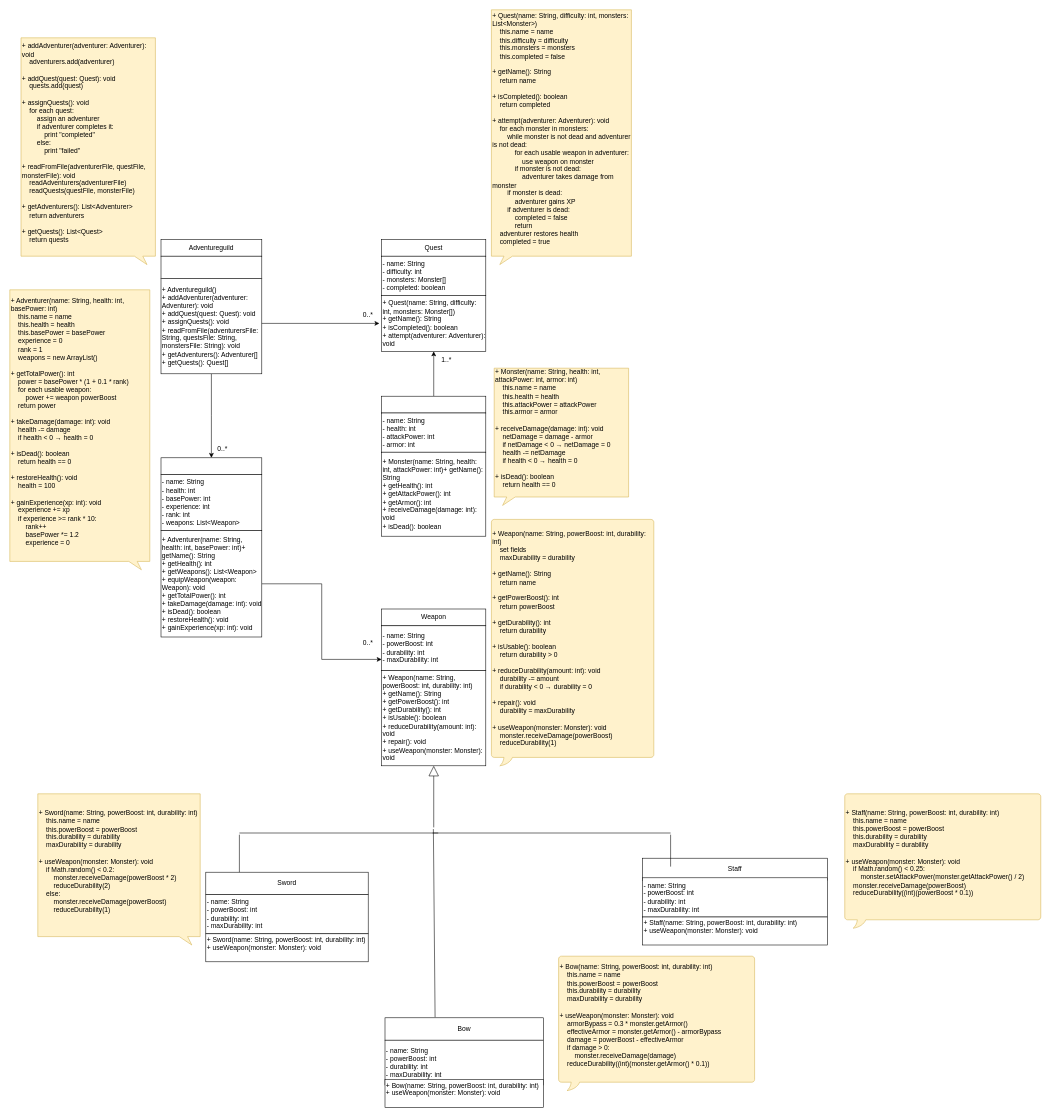
Some shapes in this 1051 by 1117 pixel diagram are drawn without their labels. The centre of each missing label's shape, as x and y in pixels:
- adventurers: Adventurer[] - quests: Quest[]: the point at 211,267
Adventurer: the point at 211,466
Monster: the point at 433,404
